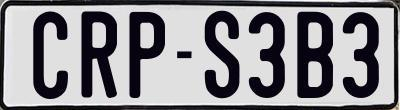3: (248, 9, 290, 99), (340, 11, 378, 103)
B: (295, 10, 336, 99)
C: (31, 11, 71, 103)
P: (128, 11, 169, 97)
R: (80, 8, 118, 97)
S: (205, 8, 240, 95)
